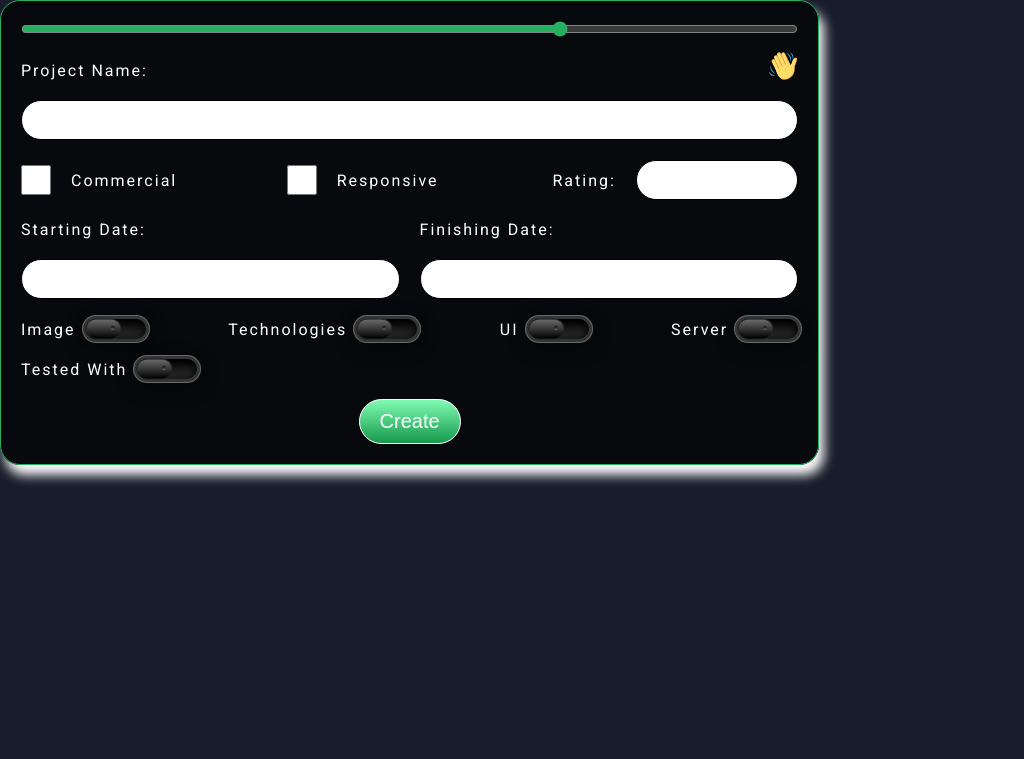
Test case: Project Form › Render › should render the server fieldset after clicking on the server switch btn
expect the field labelled "Package Json:" is not shown: met
Note: testing the swtich label
Click the text "Server".
click(700, 329)  # box [671,320,728,338]
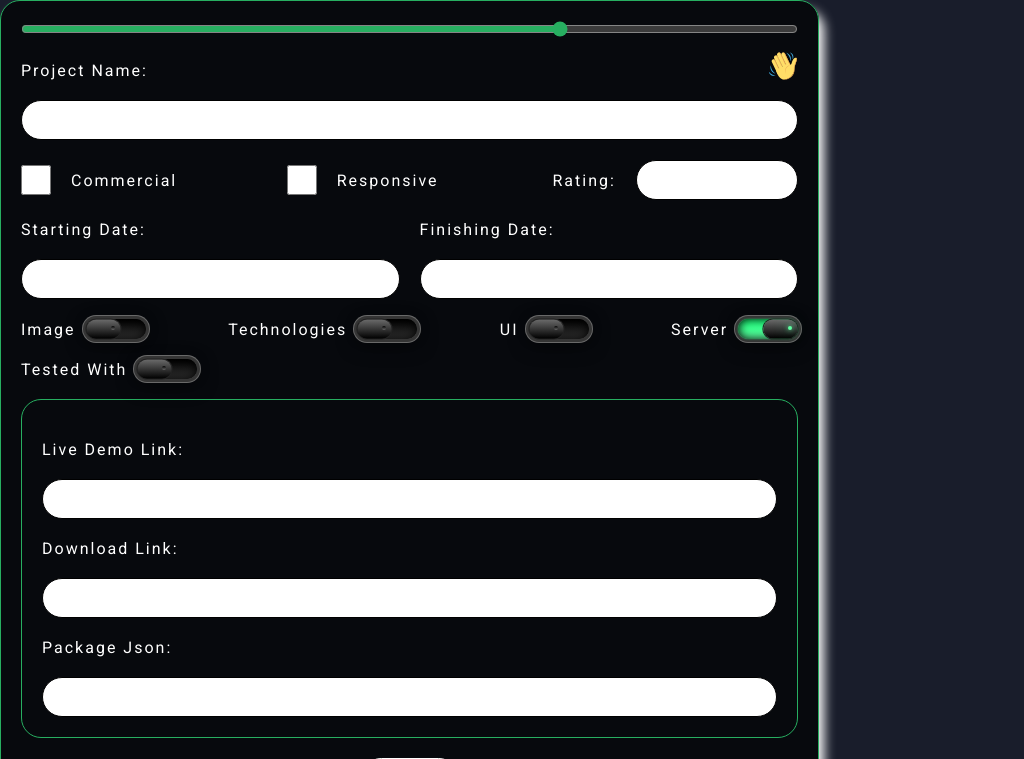
expect the text "Live Demo Link:" is shown: met, box [42,440,184,459]
expect the field labelled "Live Demo Link:" is shown: met, box [42,479,777,519]
expect the text "Download Link:" is shown: met, box [42,539,178,558]
Note: testing the swtich
Click the checkbox labelled "Server".
click(768, 329)  # box [738,319,798,339]
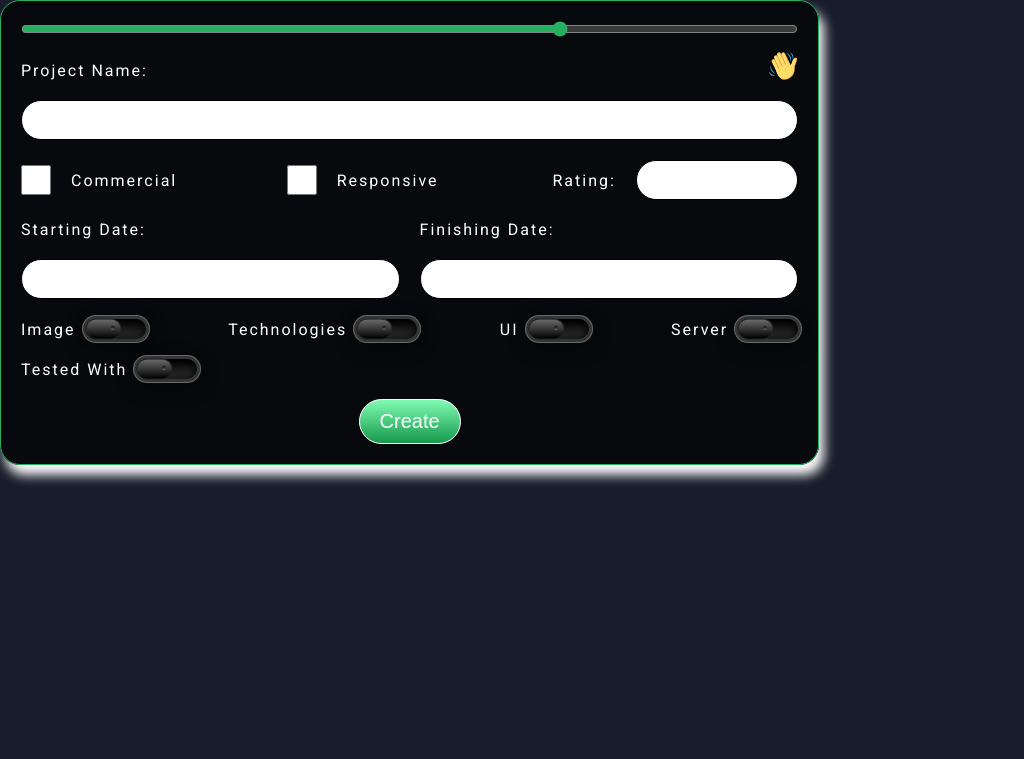
expect the text "Live Demo Link:" is gone: met
expect the label "Live Demo Link:" is gone: met
expect the text "Download Link:" is gone: met
